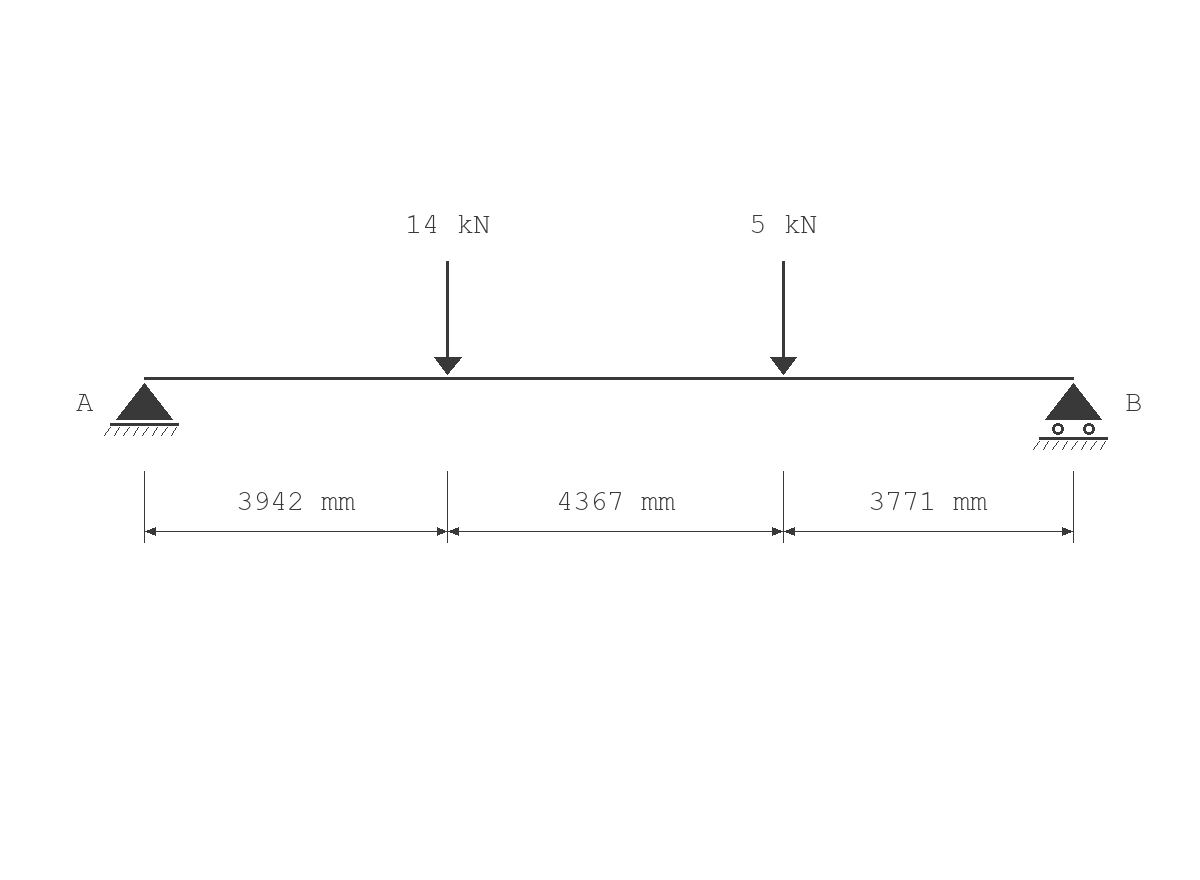pin_support: (104, 383, 179, 436)
point_load: (434, 261, 462, 375), (770, 261, 797, 375)
roller_support: (1033, 383, 1108, 450)
